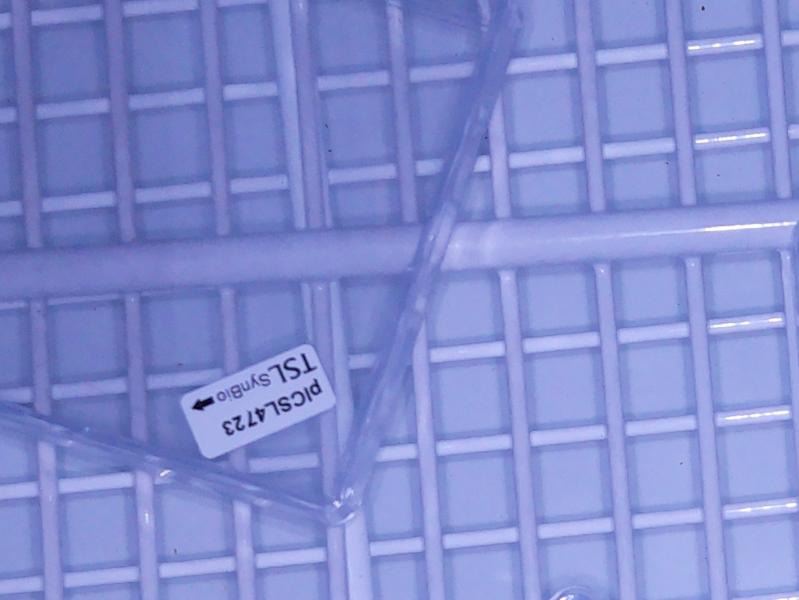plate: (1, 1, 522, 528)
